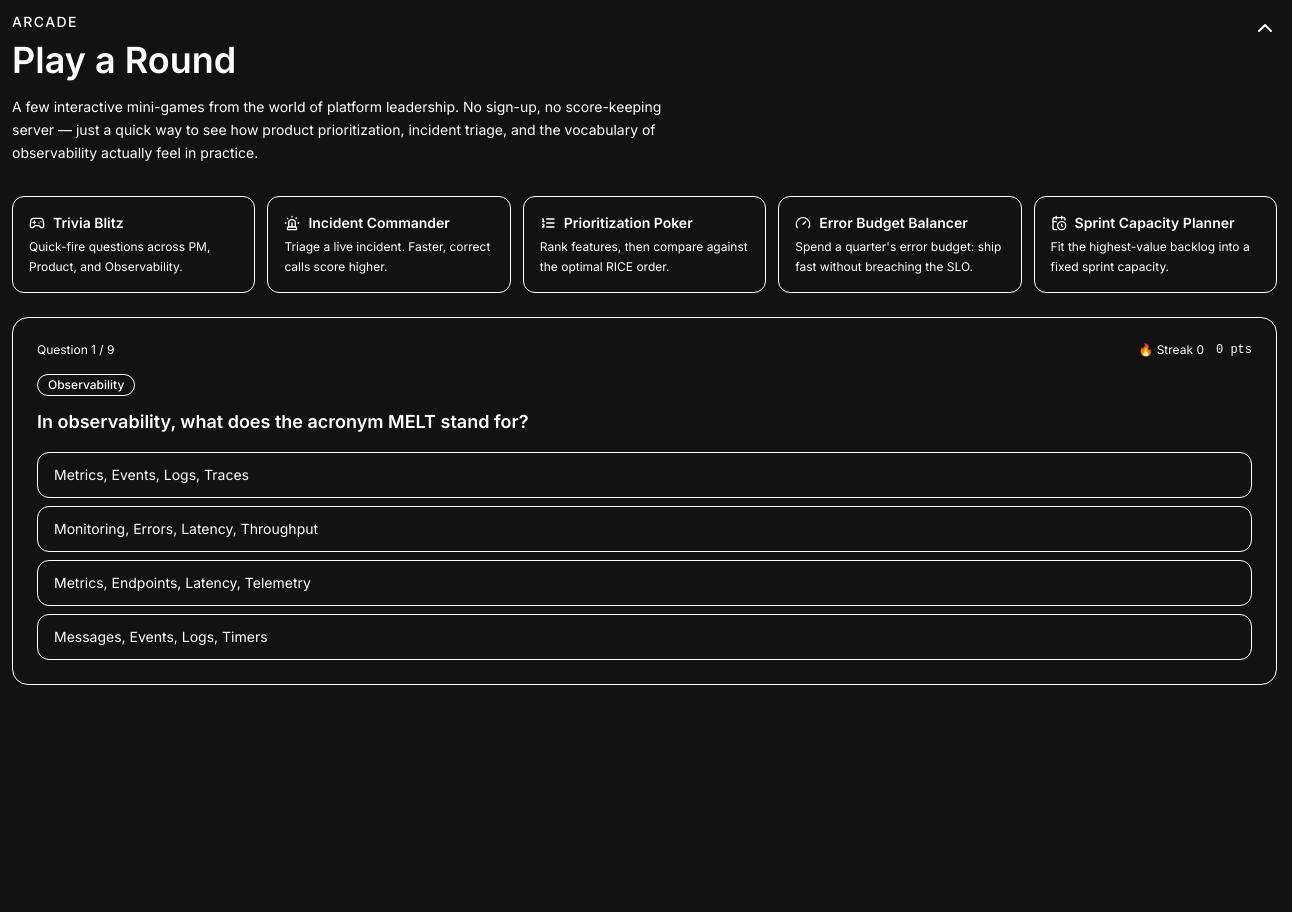
Scenario: Arcade › Prioritization Poker reveals a match score in [0, 1000]
Click the tab "Prioritization Poker" at (644, 245), box [523,196,766,293]
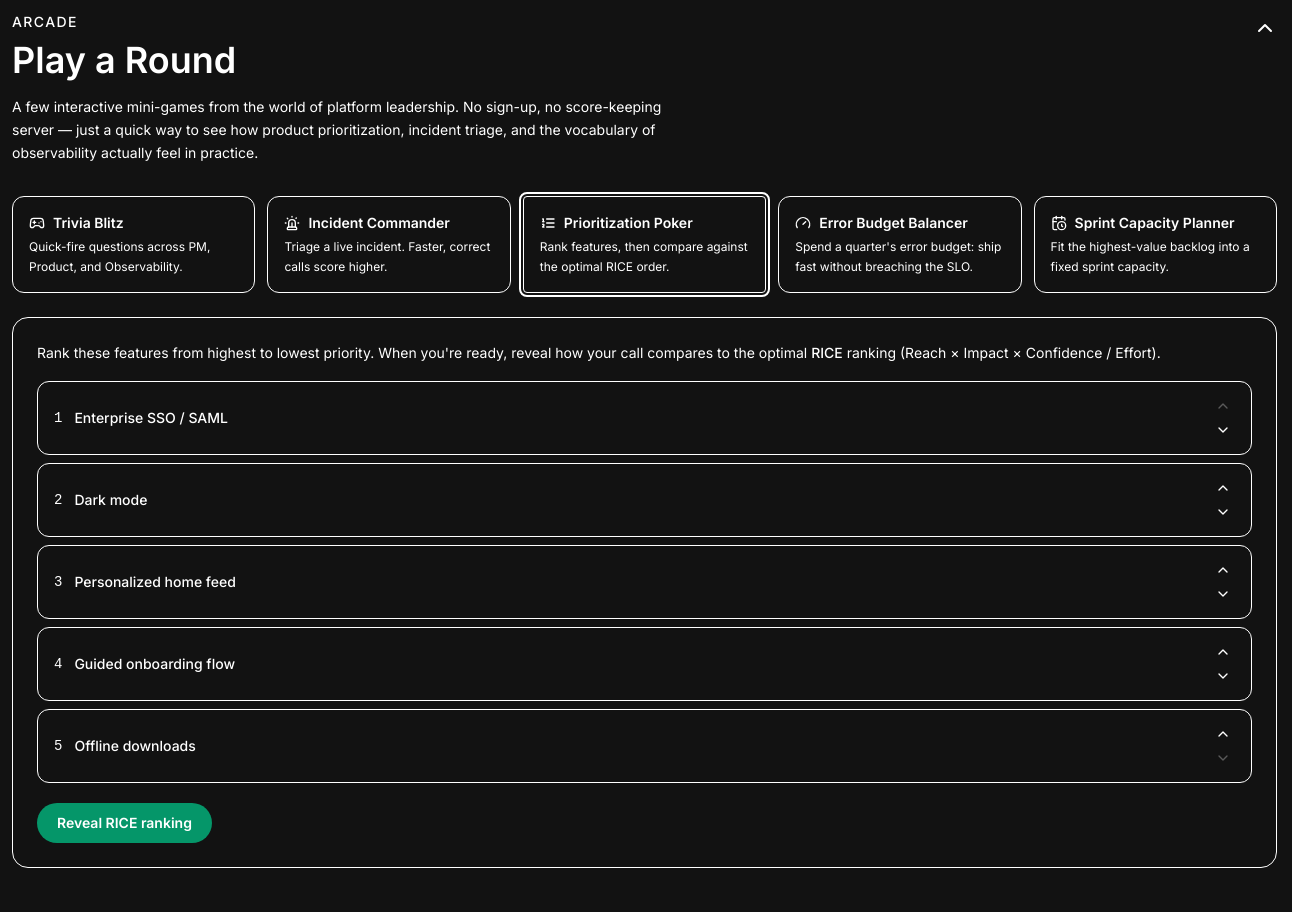
Click the button "Reveal RICE ranking" at (124, 823), box [37,803,212,843]
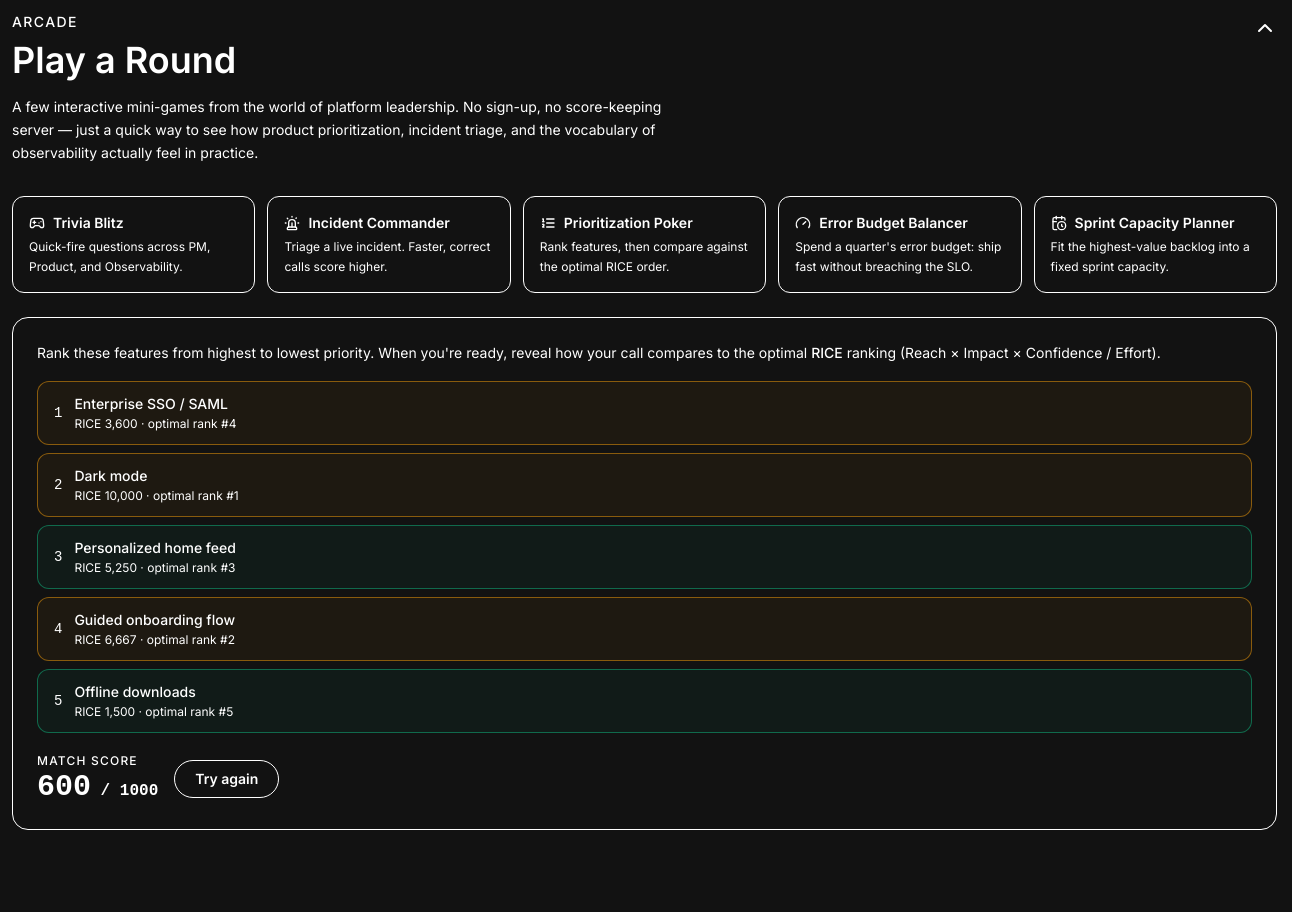
Now the text "Match Score" is shown, box [37,753,138,768]
Now the text "/ 1000" is shown, box [91,782,158,800]
